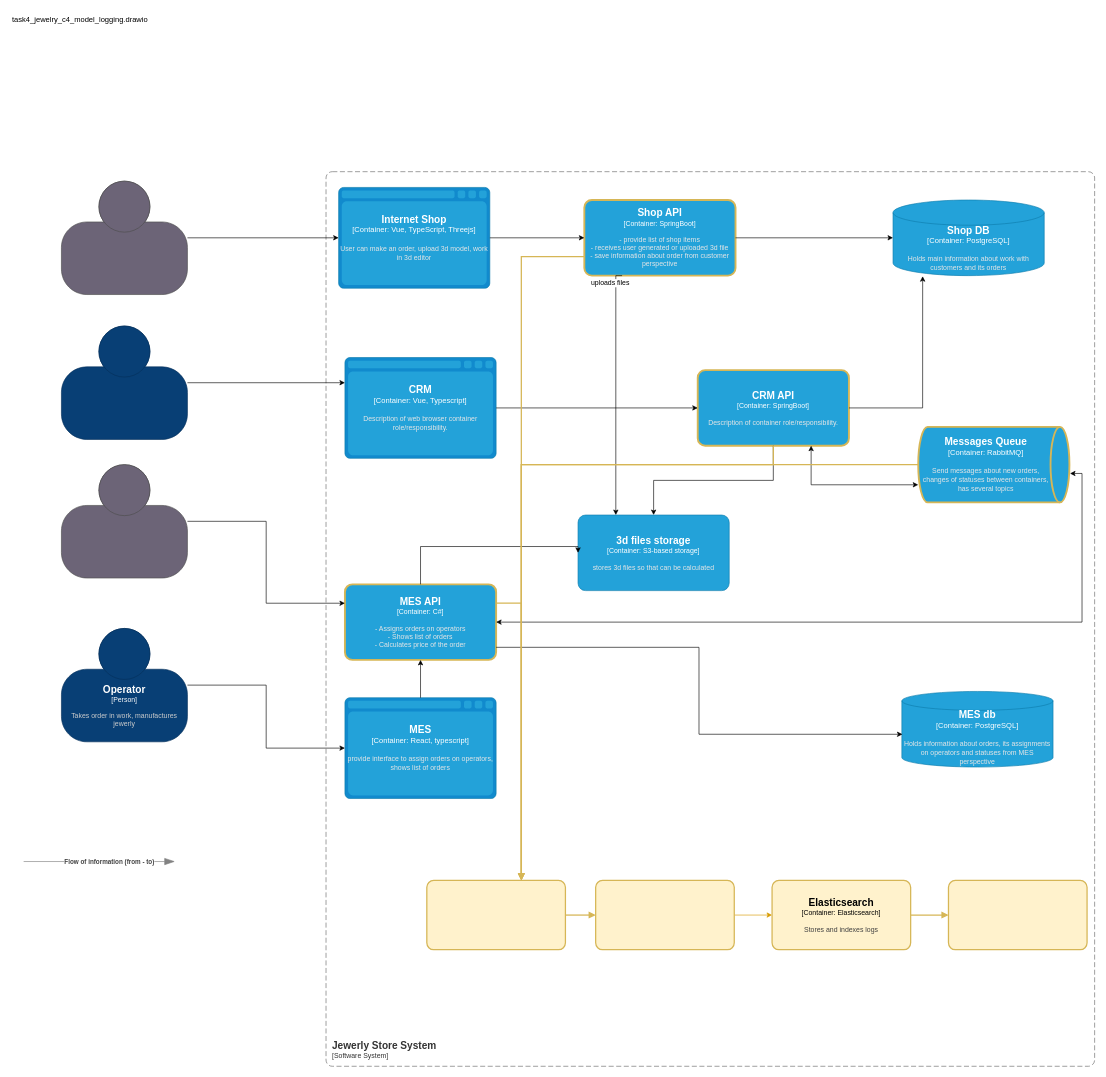
The diagram is 1106 pixels wide and 1077 high, and some of its shapes have lost their labels. The box of each missing label's shape, as (x1, y1, x2, y2) in pixels:
API user [Person] Description of external person.: (61, 464, 187, 578)
Customer [Person] Description of external person.: (61, 180, 187, 295)
Filebeat [Container: Filebeat] Collects and forwards logs: (426, 879, 566, 950)
Kibana [Container: Kibana] Searches and visualizes logs: (948, 879, 1087, 950)
Logstash [Container: Logstash] Processes logs: (595, 879, 735, 950)
Seller [Person] Operates with order, confirms manufacturing for the user: (61, 325, 187, 439)
